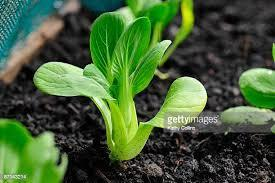Healthy-Pechay: (91, 19, 163, 157), (33, 60, 123, 99), (107, 0, 193, 36), (154, 75, 207, 129), (237, 61, 275, 127)
